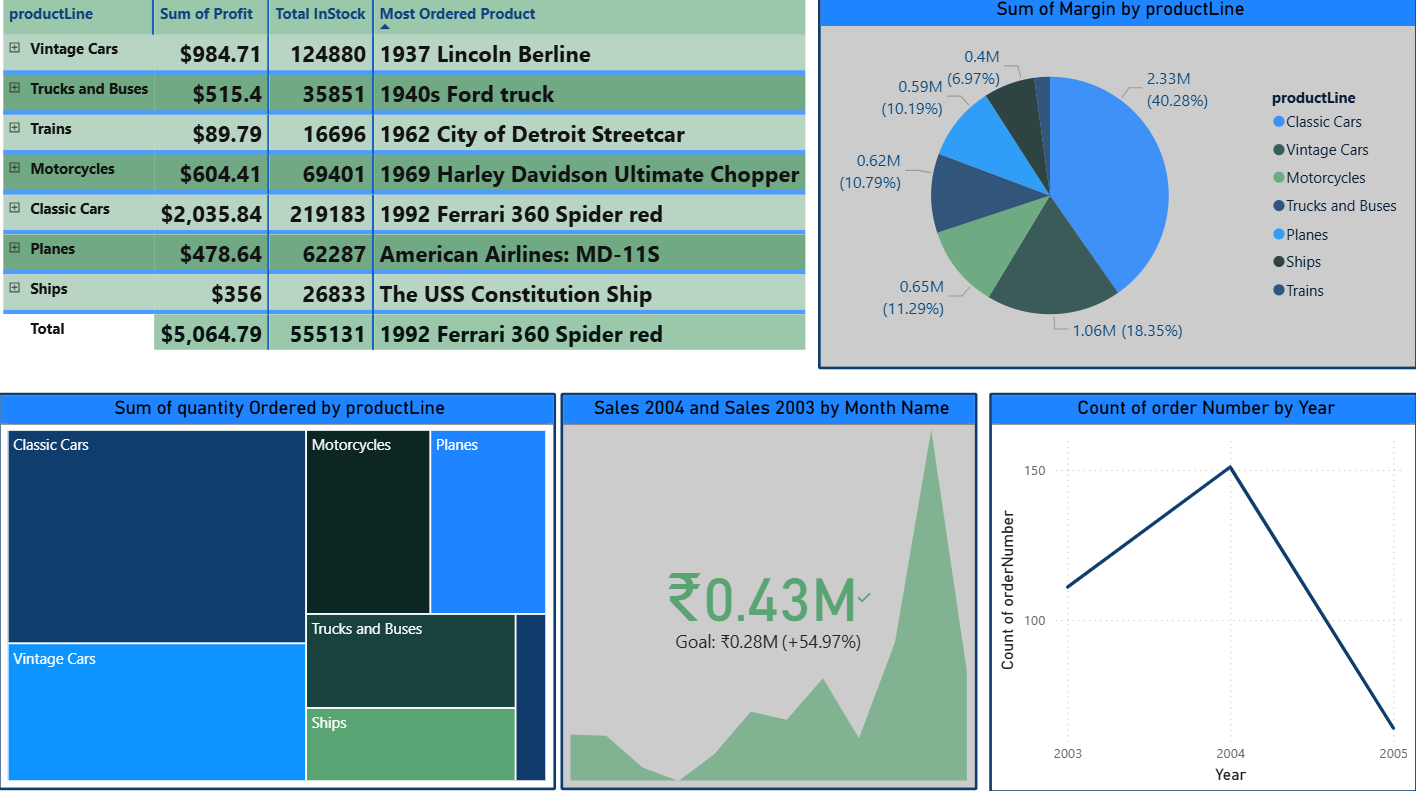

Layout of this report page (visuals, bound fields, positions):
{"tool":"powerbi","page":{"name":"Page 2","canvas":[1280,720],"ordinal":1},"visuals":[{"type":"pivotTable","fields":{"Rows":["products.productLine","products.productName"],"Values":["Sum(products.Profit)","Sum(products.quantityInStock)","ProductsByQuantity.Most Ordered Product"]},"box":[0,0,738.9,360.1],"z":0},{"type":"lineChart","title":"Count of order Number by Year","fields":{"Y":["CountNonNull(orders.orderNumber)"],"Category":["orders.orderDate.Variation.Date Hierarchy.Year"]},"box":[893.8,359.6,386.6,360.7],"z":1000},{"type":"pieChart","fields":{"Y":["Sum(order details.Margin)"],"Category":["products.productLine"]},"box":[738.9,0,540.8,338.4],"z":5000},{"type":"treemap","title":"Sum of quantity Ordered by productLine","fields":{"Group":["productlines.productLine"],"Values":["Sum(order details.quantityOrdered)"]},"box":[0,360.1,503.2,358.6],"z":6000},{"type":"kpi","fields":{"TrendLine":["orders.Month Name"],"Indicator":["order details.Sales 2004"],"Goal":["order details.Sales 2003"]},"box":[507.6,360.1,376,358.6],"z":7000}]}

Visuals, with their boxes in screenshot pixels (x1, y1, x2, y2), scaled from the page's 1280x720 canvas onto the 1416x791 screenshot:
pivotTable - products.productLine x products.productName: 0:0:817:396
"Count of order Number by Year" lineChart: 989:395:1415:790
pieChart - Sum(order details.Margin) x products.productLine: 817:0:1415:372
"Sum of quantity Ordered by productLine" treemap: 0:396:557:790
kpi - orders.Month Name x order details.Sales 2004: 562:396:977:790
